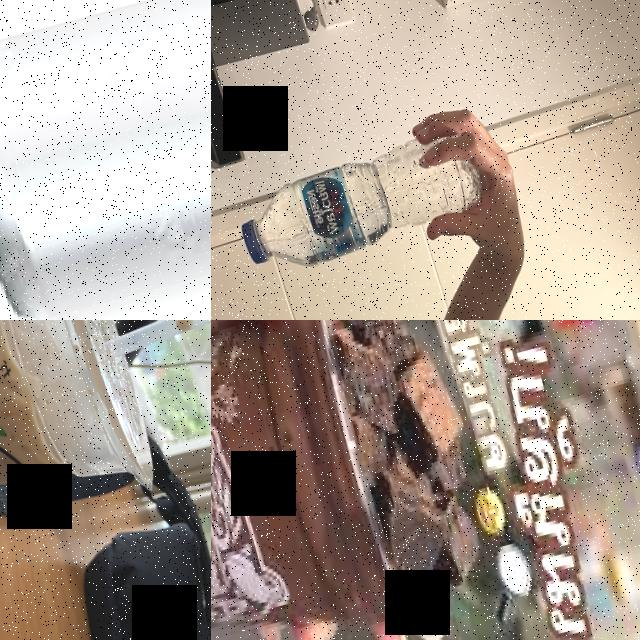bottle: (227, 124, 492, 283)
can: (0, 0, 211, 320)
cup: (211, 320, 458, 640), (0, 320, 169, 559)
